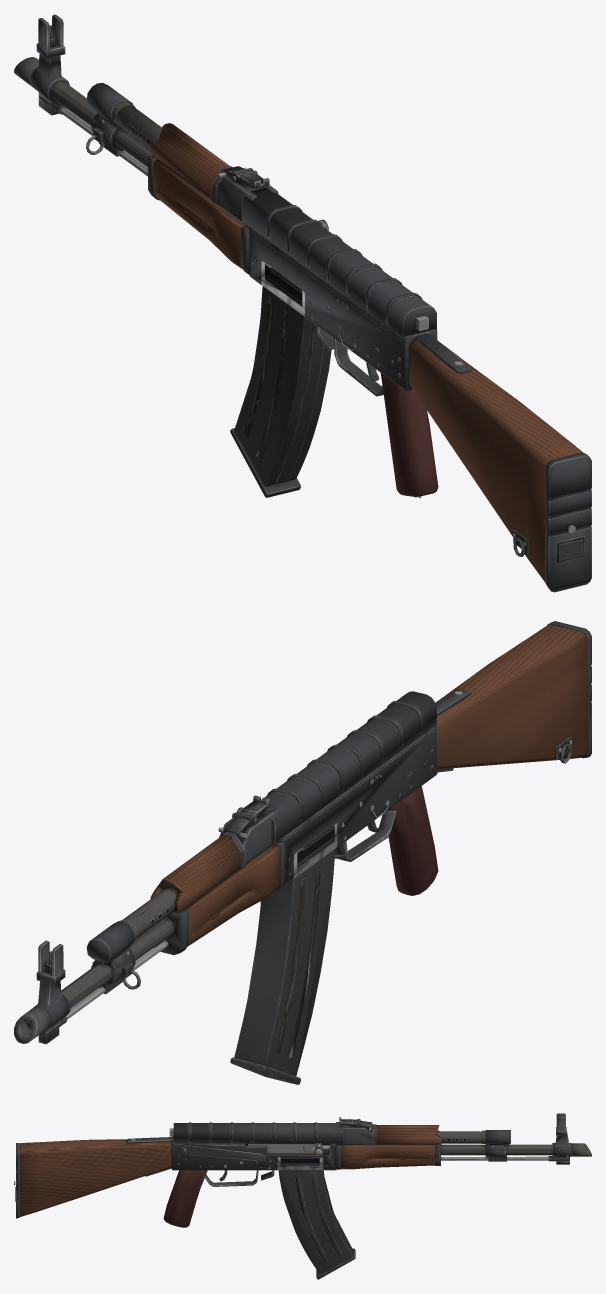
The model's file is ak47_low_built.glb.
3 views of the same model, one above another, from view 1: azimuth 30°, elevation 25°; view 2: azimuth 150°, elevation 25°; view 3: azimuth 270°, elevation 25° (orthographic). The views are drawn at different scales.
Visible parts, largest first — view 1: Body, Magazine; view 2: Body, Magazine; view 3: Body, Magazine.
Part boxes in pixels (x1,y1,x2,y2): Body: (14, 14, 591, 592); Magazine: (230, 267, 331, 497); Body: (14, 621, 591, 1044); Magazine: (230, 825, 335, 1084); Body: (14, 1113, 591, 1227); Magazine: (278, 1151, 355, 1279).
Size of the model in its own units: 0.0664 by 0.2699 by 0.8818.
1 material, 1 textured.
